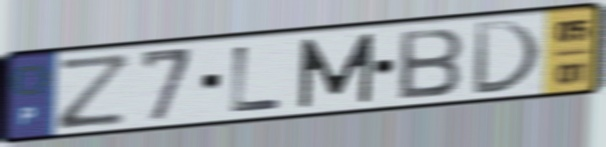7: (138, 46, 196, 125)
B: (396, 25, 466, 102)
D: (468, 18, 544, 97)
L: (227, 43, 286, 115)
M: (296, 30, 377, 111)
Z: (55, 50, 136, 132)
